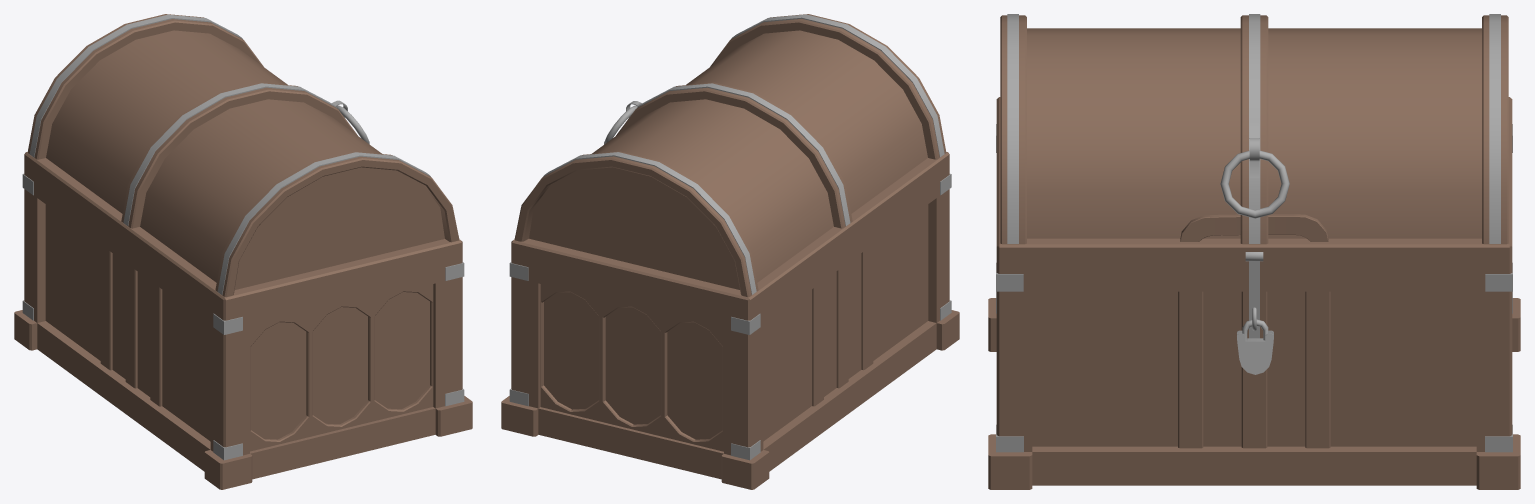
File: Chest_geo.fbx
The picture shows the model from 3 angles, left to right: view 1: azimuth 30°, elevation 25°; view 2: azimuth 150°, elevation 25°; view 3: azimuth 270°, elevation 25°; orthographic projection. The views are drawn at different scales.
Parts seen in each view (by area): view 1: Chest; view 2: Chest; view 3: Chest.
Boxes of the visible parts, x1=… form: Chest: x1=14, y1=14, x2=472, y2=489; Chest: x1=501, y1=14, x2=959, y2=489; Chest: x1=988, y1=14, x2=1520, y2=489.
Size of the model in its own units: 0.7369 by 0.7882 by 1.01.
